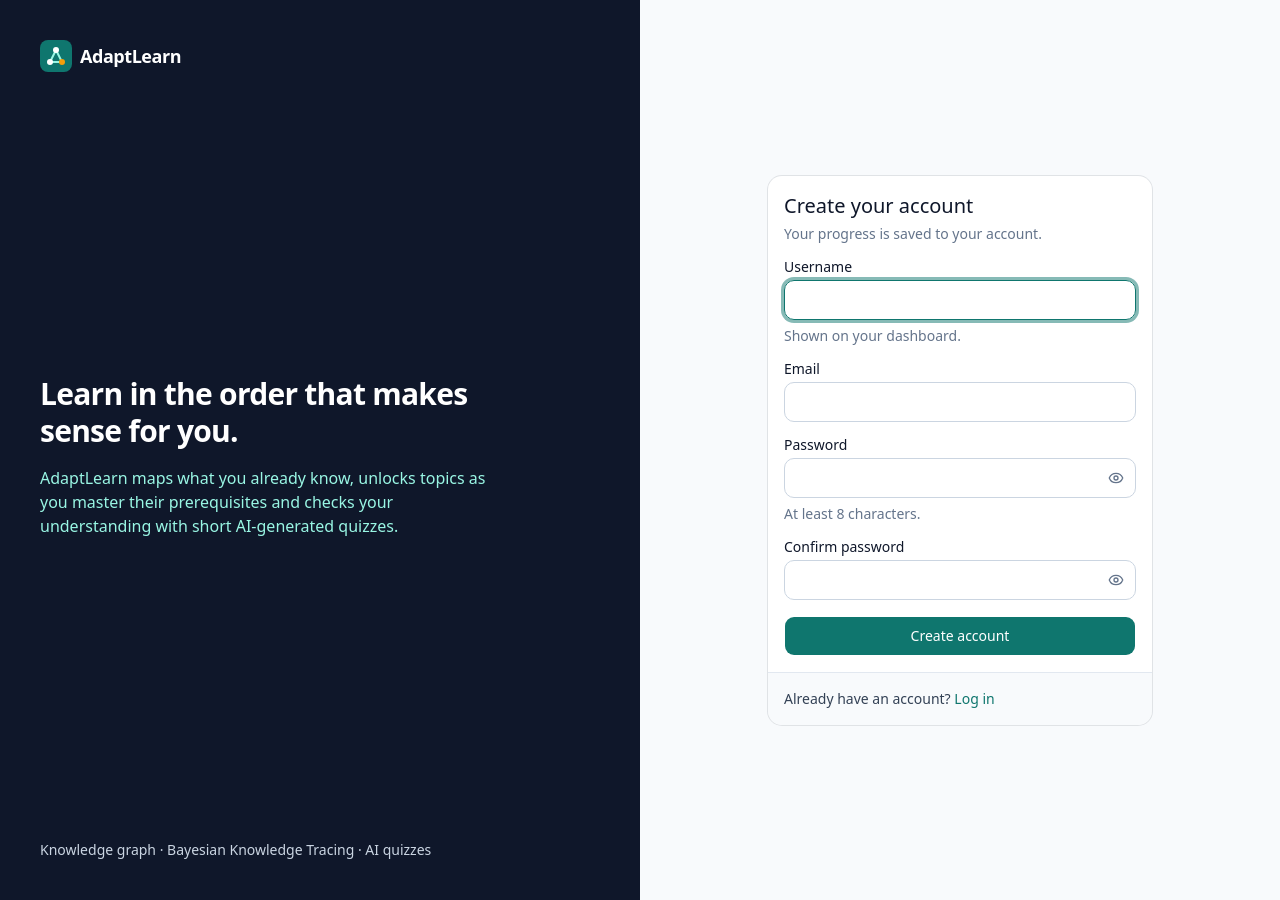
Test: form › catches mismatched passwords, and clears the message once they match
Expected: the form named "Create account" is shown, [784,260,1136,656]
Type "New Learner" into the field labelled "Username". click: [960, 300]
box: [784,280,1136,320]
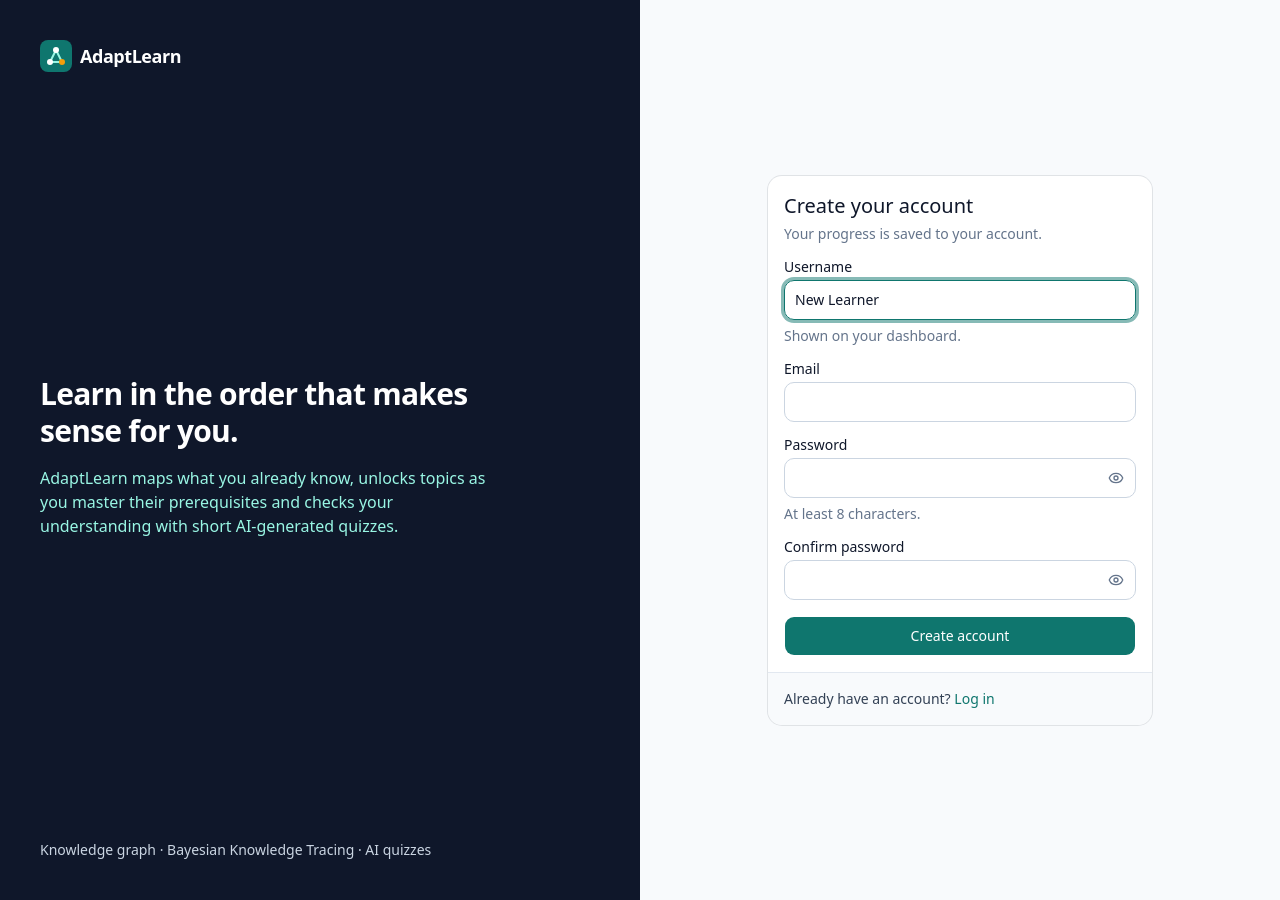
Type "new@example.com" into the field labelled "Email". click: [960, 402]
box: [784,382,1136,422]
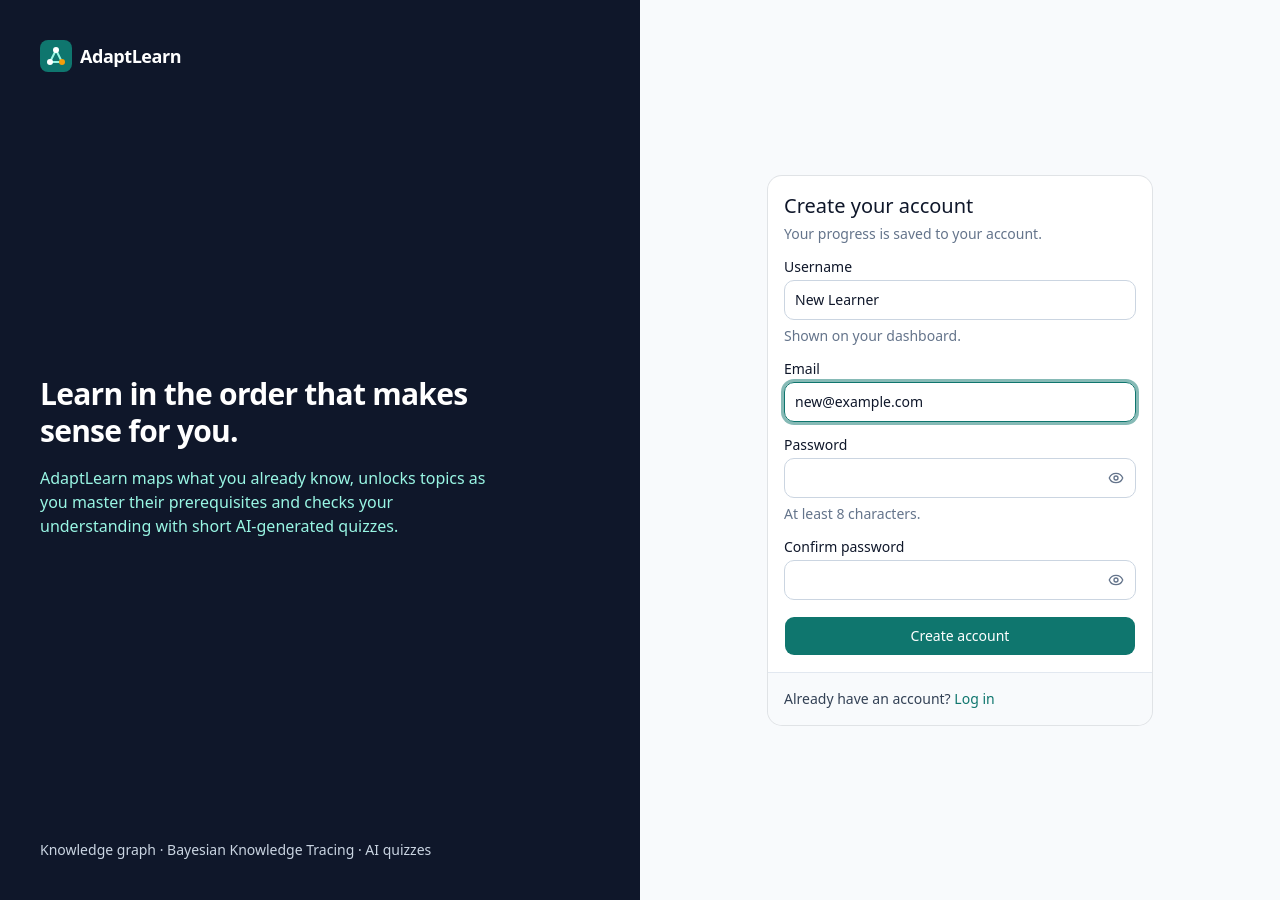
Type "StrongPassword123" into the password field labelled "Password". click: [960, 478]
box: [784,458,1136,498]
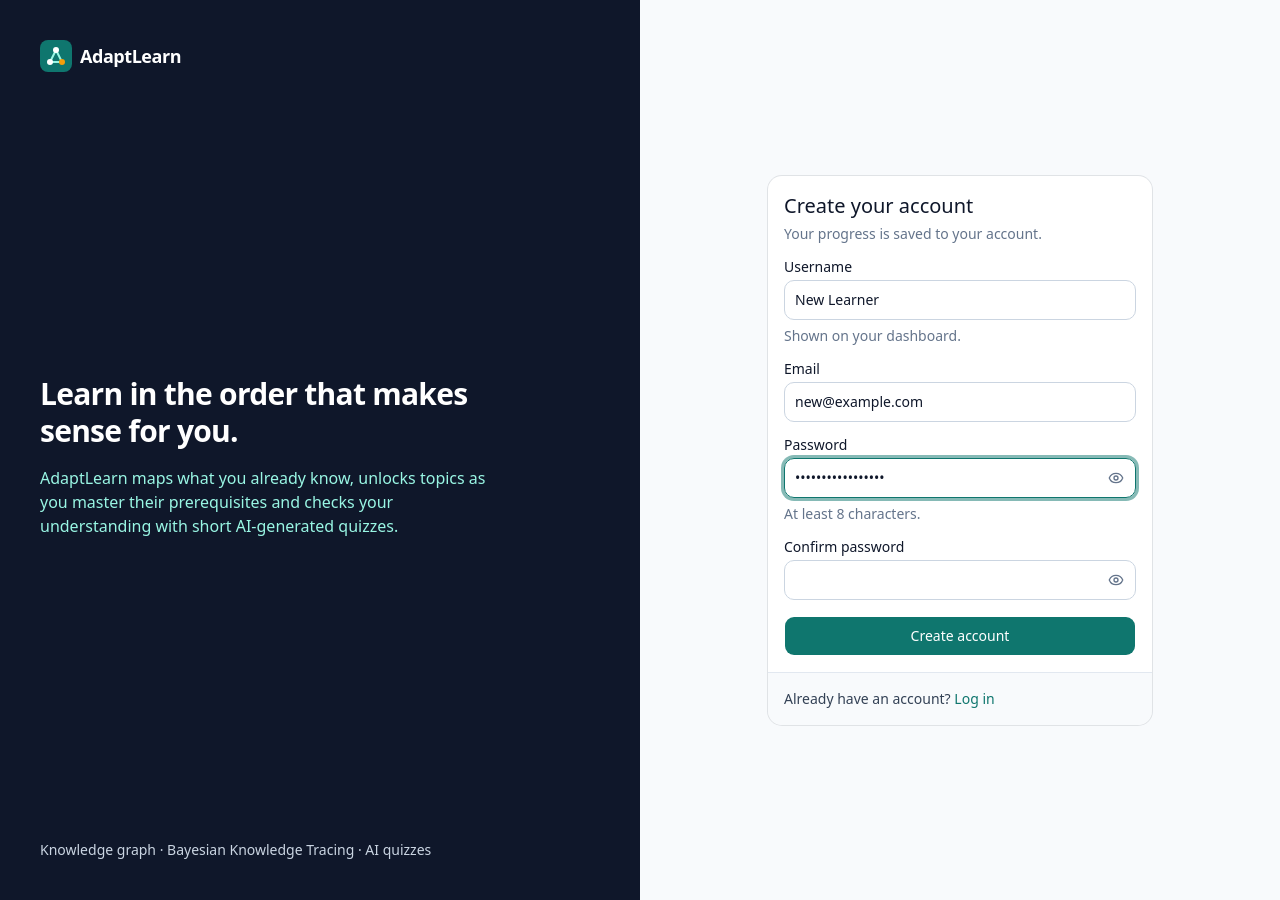
Type "StrongPassword12" into the password field labelled "Confirm password". click: [960, 580]
box: [784,560,1136,600]
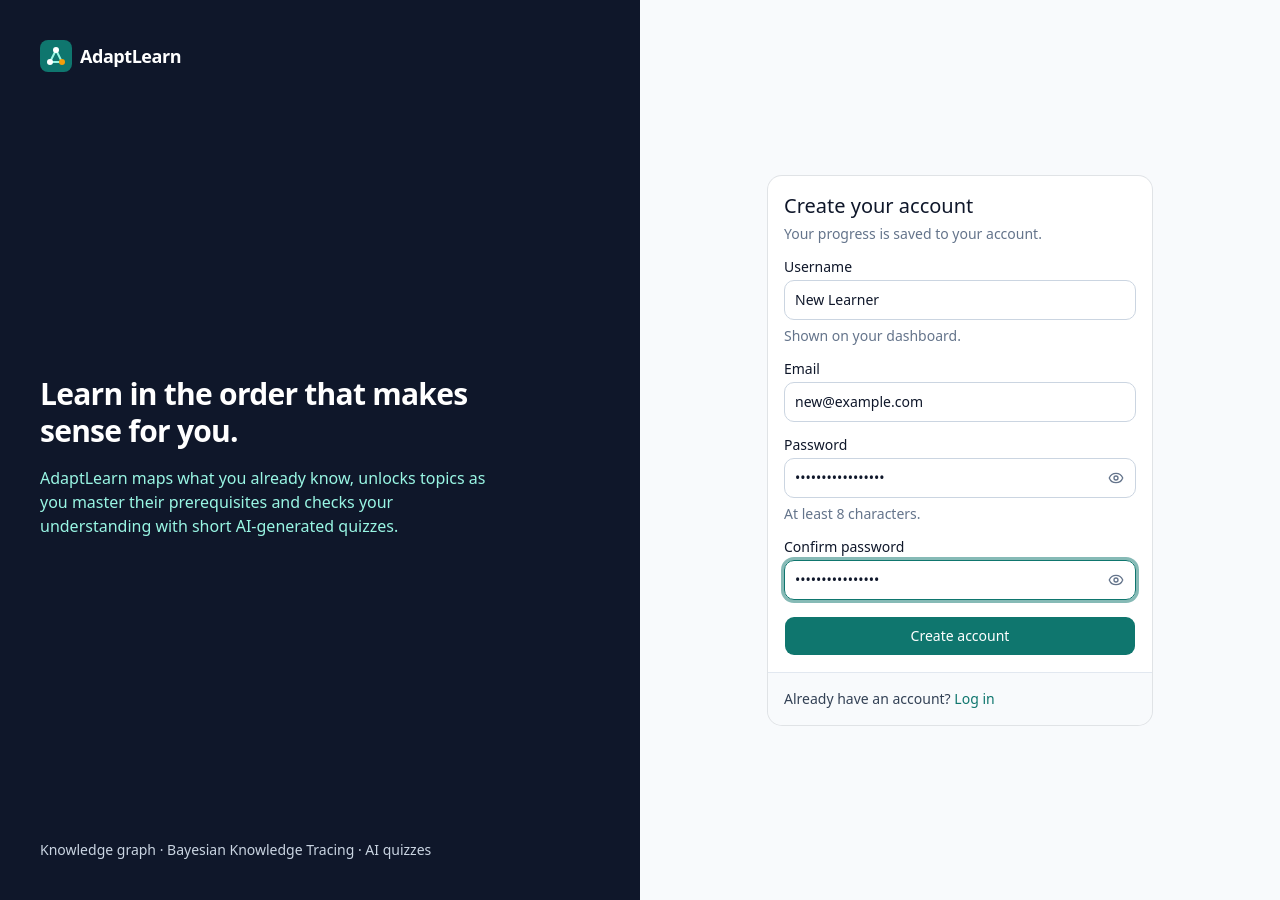
Click the button "Create account". click: [960, 636]
box: [784,616,1136,656]
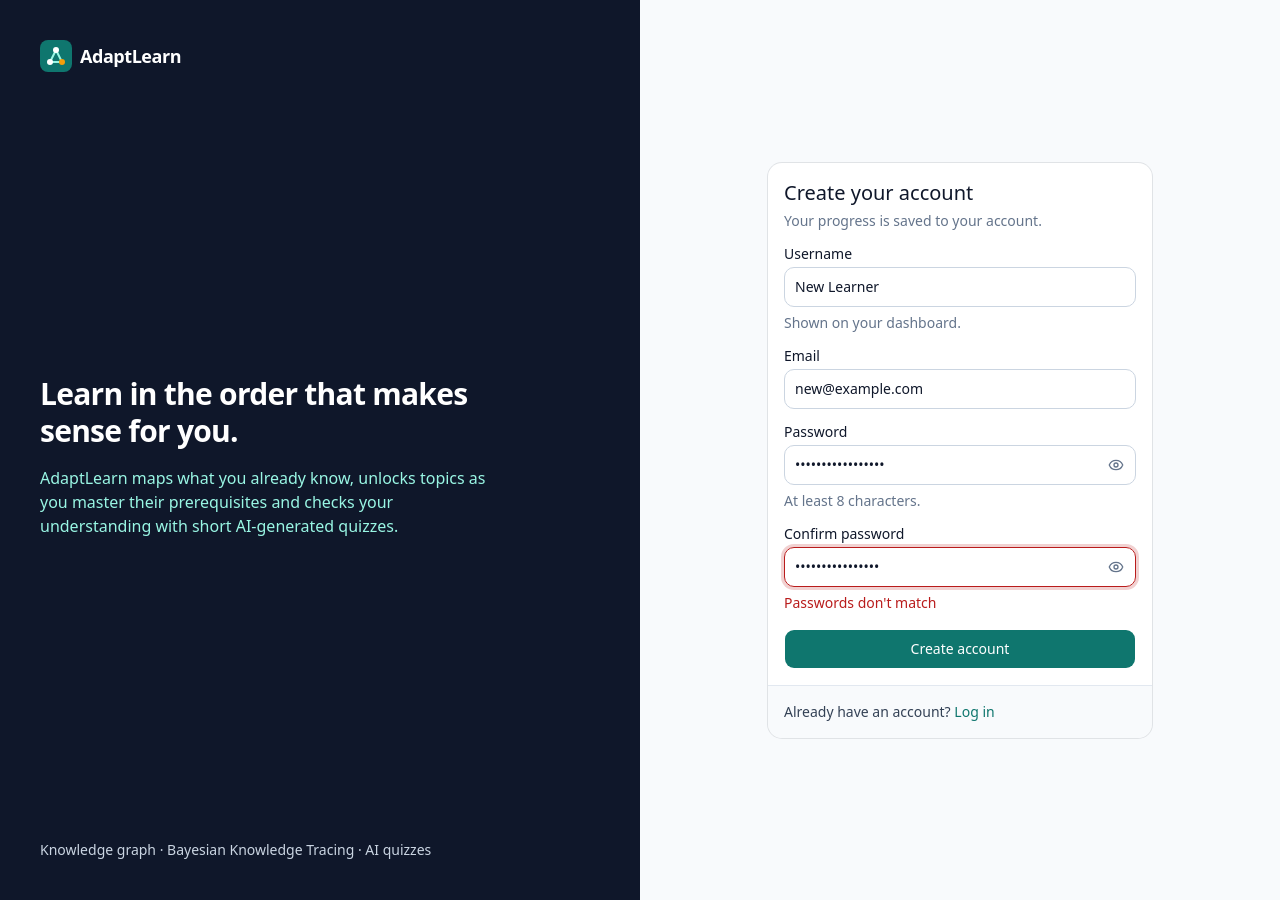
Type "3" into the password field labelled "Confirm password". click: [960, 566]
box: [784,546,1136,586]
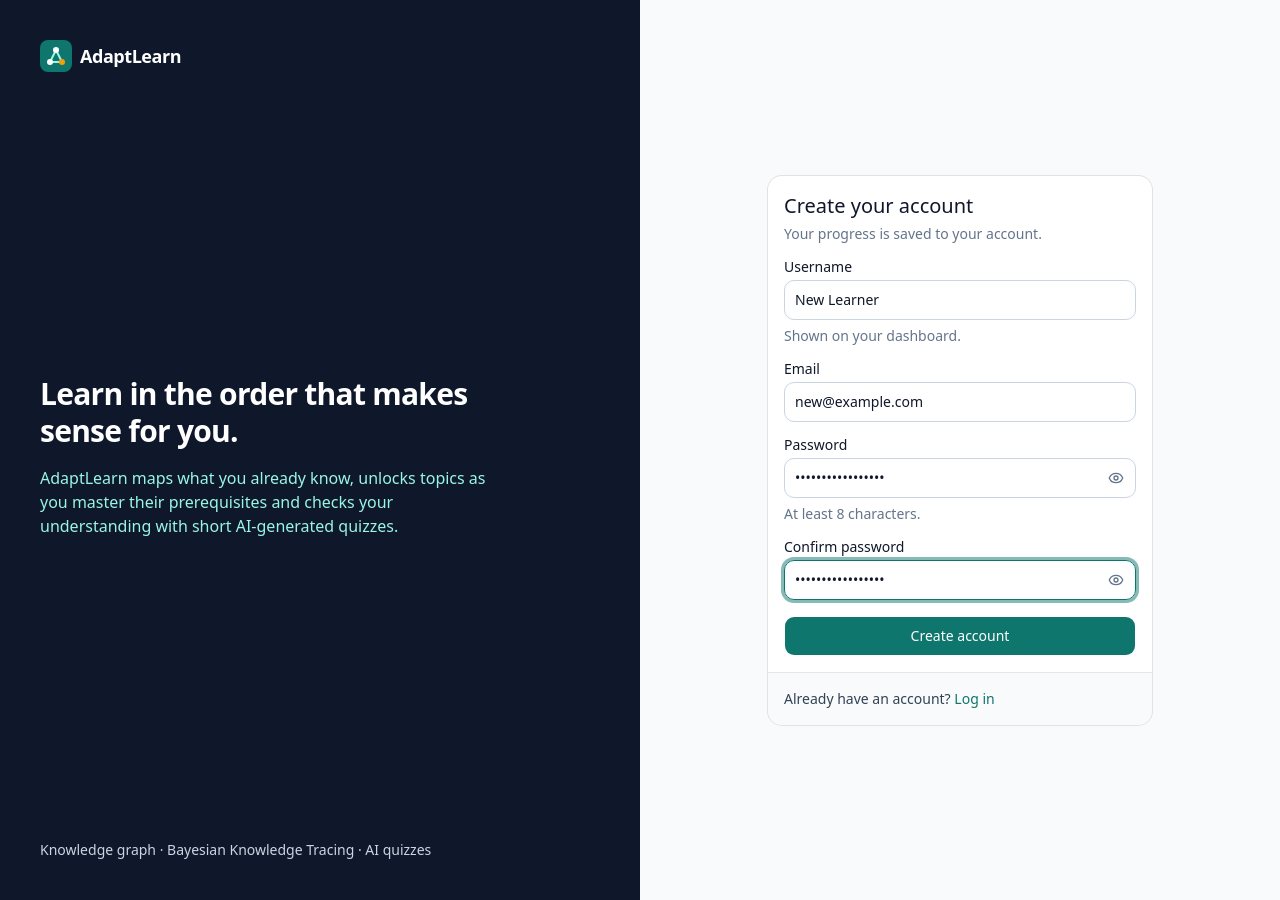
Now the text "Passwords don't match" is gone
